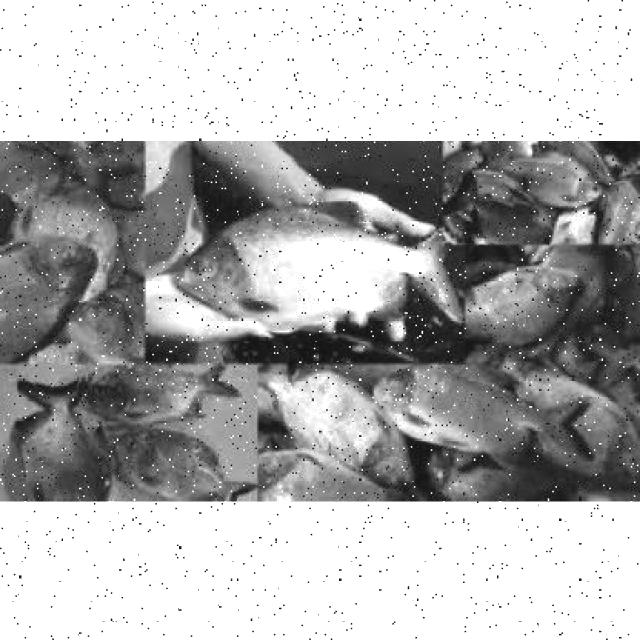ikan-pacu: (182, 200, 464, 332), (374, 364, 580, 452), (275, 371, 408, 482), (0, 230, 94, 370), (9, 379, 105, 501), (108, 422, 252, 498), (464, 260, 584, 343), (89, 364, 240, 424), (262, 448, 388, 500), (512, 146, 608, 202)
